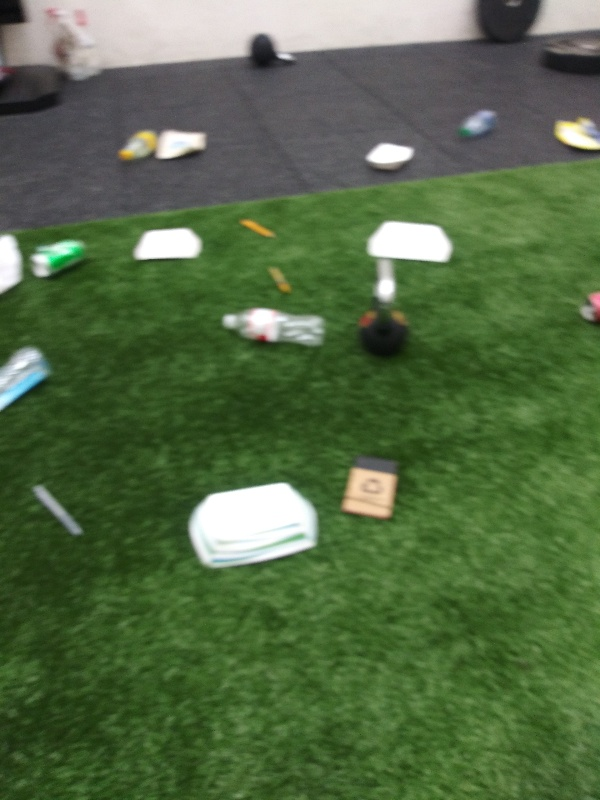bag: (547, 114, 600, 156), (157, 125, 213, 163)
bottle: (215, 305, 330, 350), (1, 342, 54, 420), (455, 100, 505, 144), (115, 123, 161, 164)
can: (29, 234, 91, 281), (579, 285, 600, 330)
plate: (183, 479, 322, 578), (364, 218, 460, 269), (129, 223, 213, 263), (362, 139, 419, 173)
